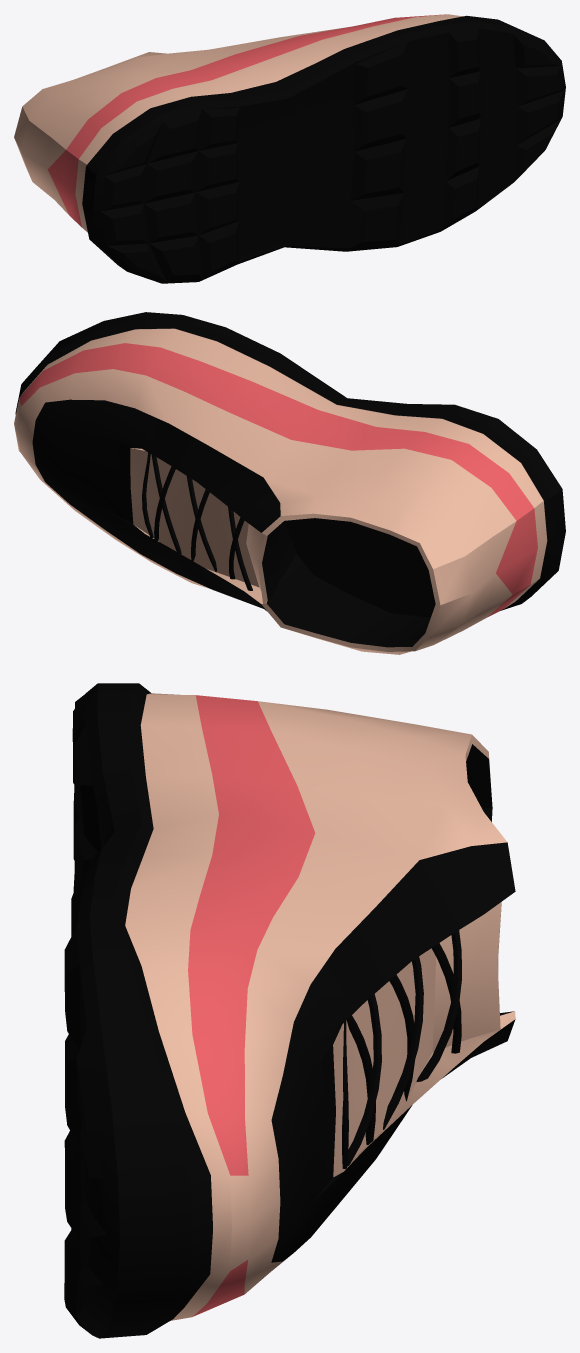
Rendered from RunningShoes.fbx.
3 views of the same model, one above another, from view 1: azimuth 30°, elevation 25°; view 2: azimuth 150°, elevation 25°; view 3: azimuth 270°, elevation 25° (orthographic). The views are drawn at different scales.
Parts seen in each view (by area): view 1: RunningShoes; view 2: RunningShoes; view 3: RunningShoes.
Part boxes in pixels (x1,y1,x2,y2): RunningShoes: (14,14,565,283); RunningShoes: (14,312,565,654); RunningShoes: (64,683,515,1338).
Size of the model in its own units: 270 by 114 by 111.
